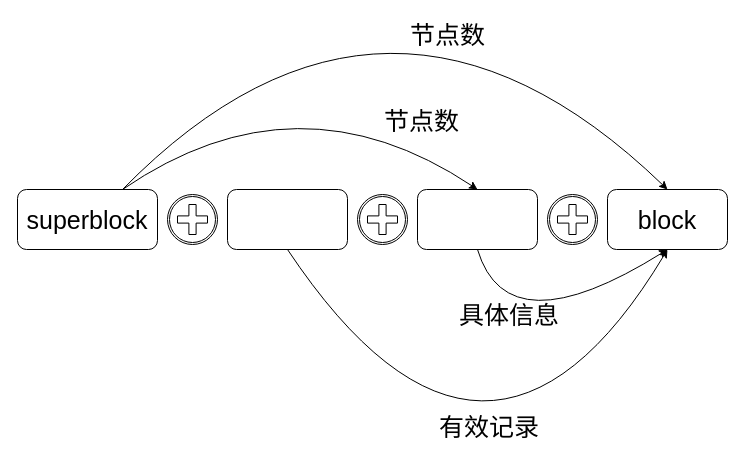
Some shapes in this 745 by 459 pixel diagram are drawn without their labels. The centre of each missing label's shape, as x and y in pixels:
block table: the point at 287,219
inode: the point at 477,219
